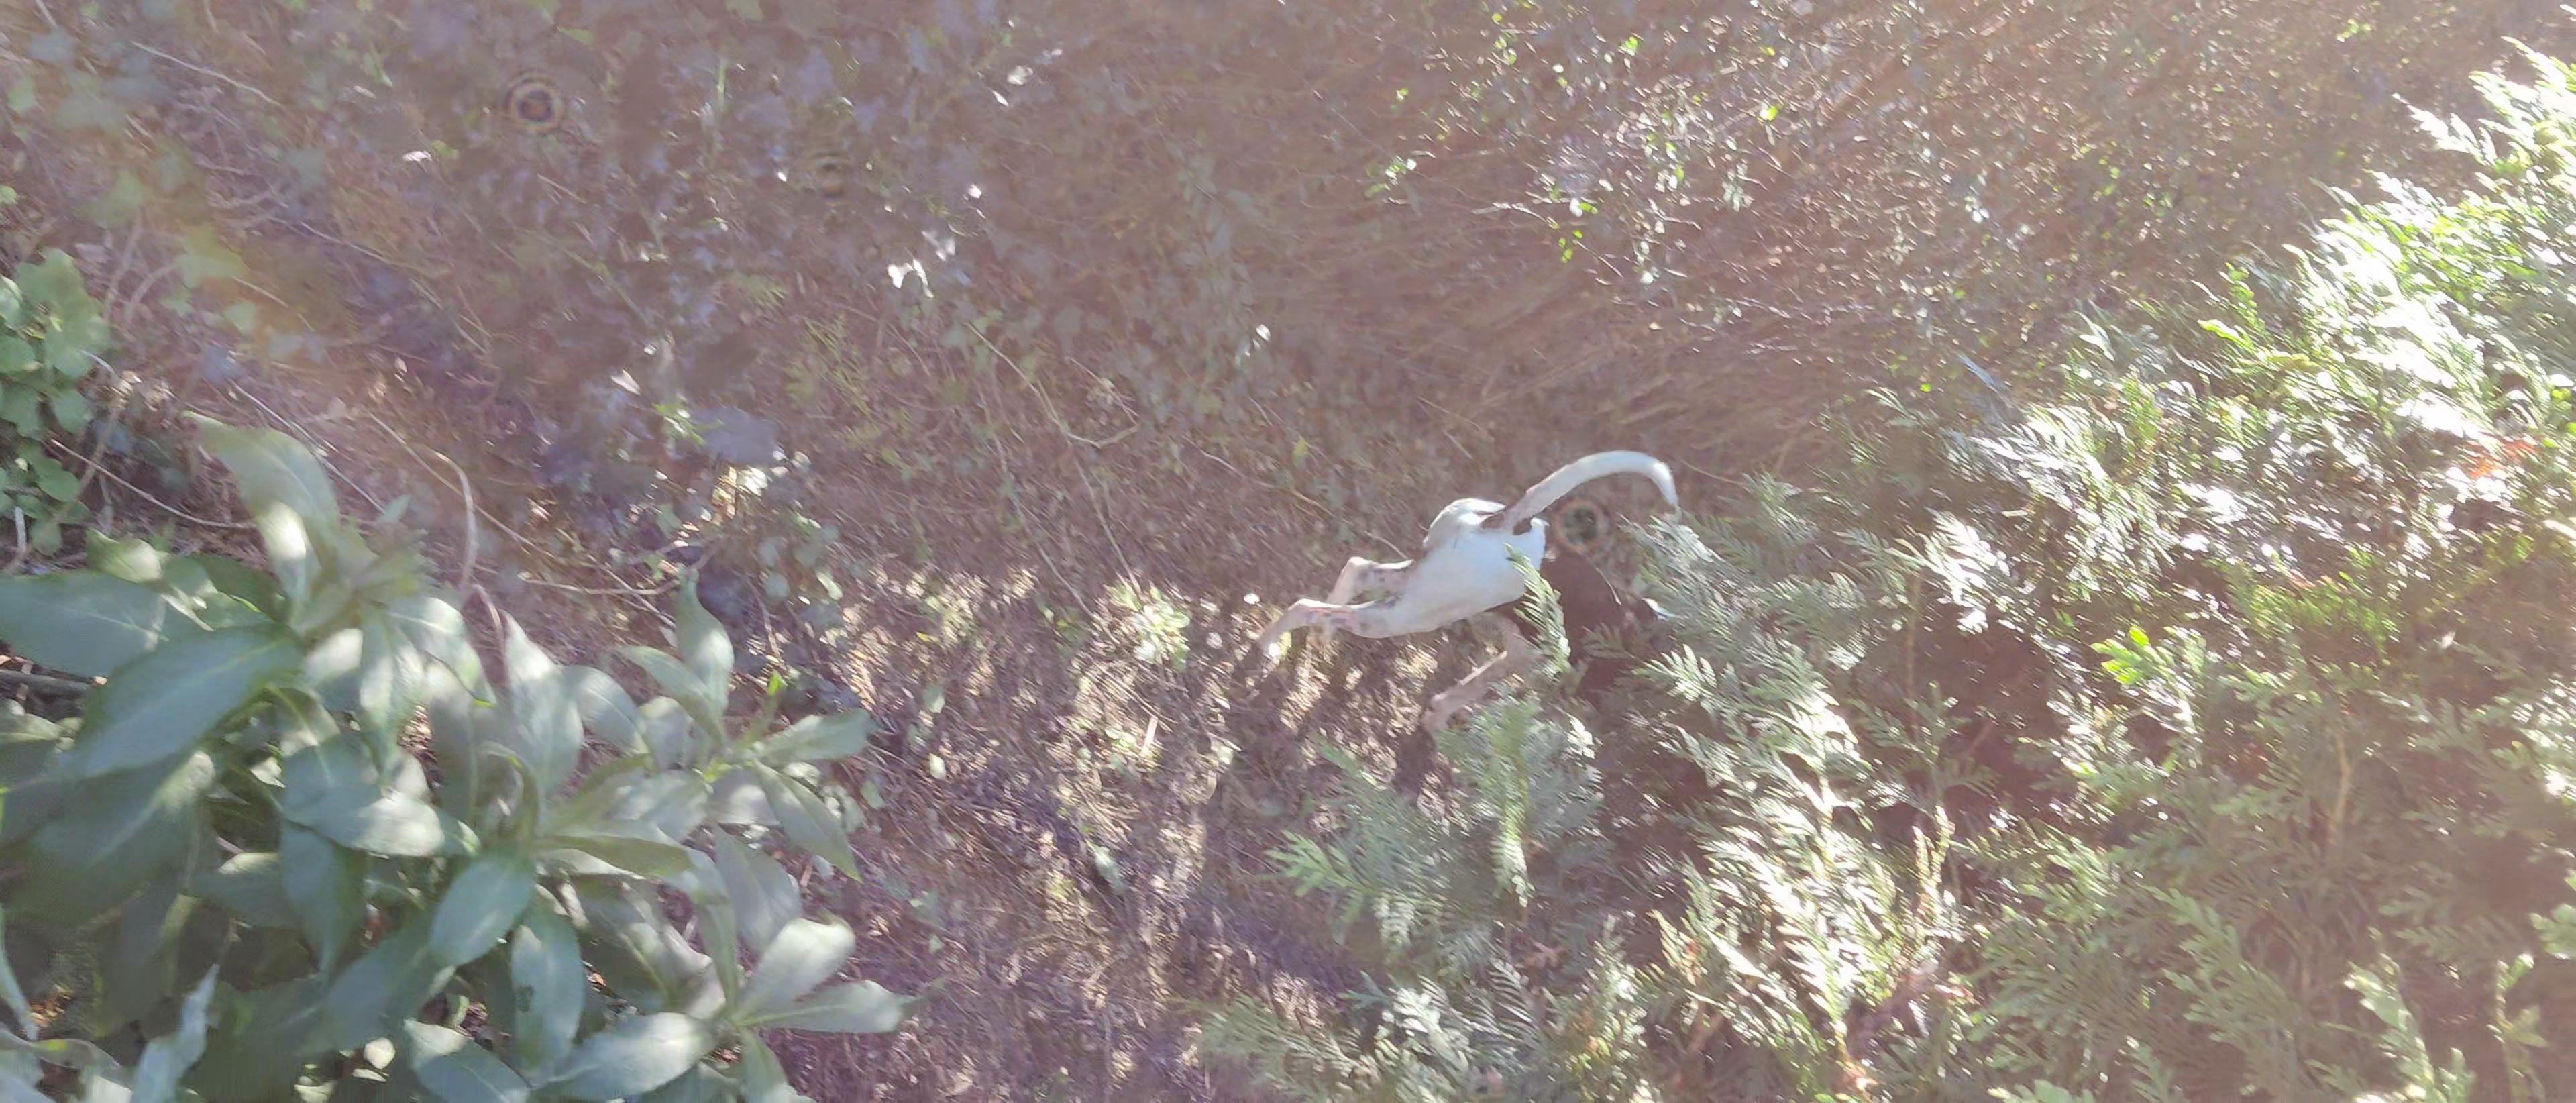Dog: (1252, 449, 1689, 750)
